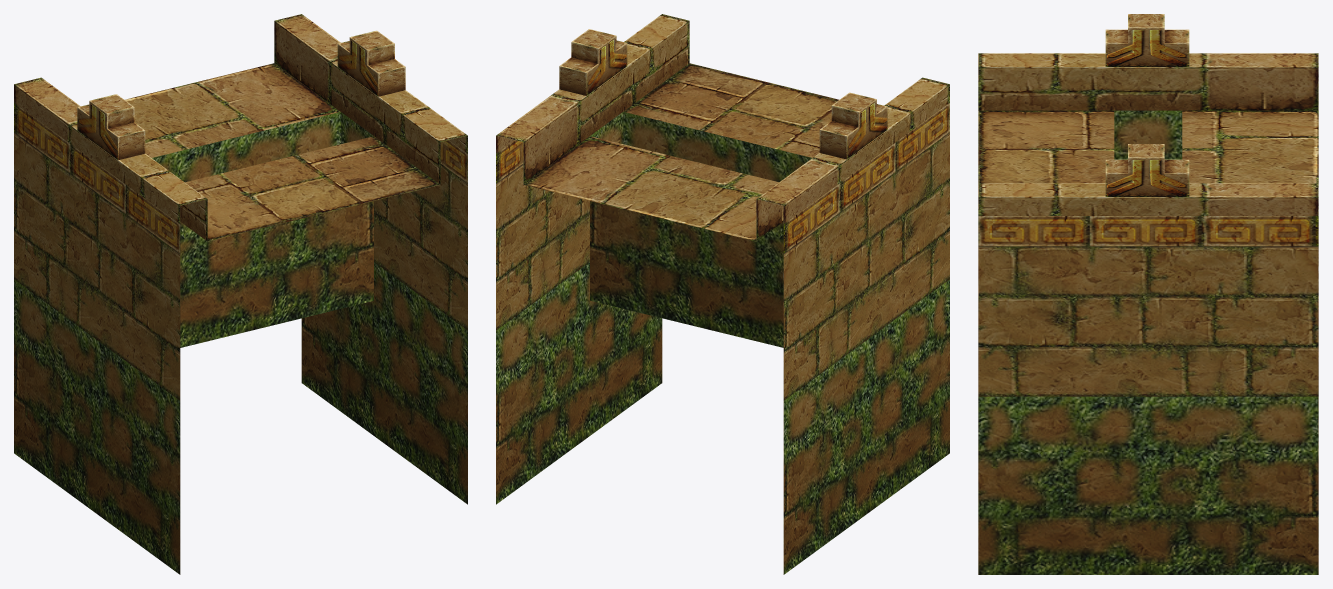
Rendered from TempleRoad011.FBX.
3 views of the same model, side by side, from view 1: azimuth 30°, elevation 25°; view 2: azimuth 150°, elevation 25°; view 3: azimuth 270°, elevation 25° (orthographic). The views are drawn at different scales.
Parts seen in each view (by area): view 1: TempleRoad011; view 2: TempleRoad011; view 3: TempleRoad011.
Part boxes in pixels (x1,y1,x2,y2): TempleRoad011: (14,14,467,574); TempleRoad011: (496,14,949,574); TempleRoad011: (978,14,1318,574).
Bounding box in the file's own units: 500 × 677 × 500.
